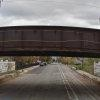Bridge: (4, 17, 96, 64)
